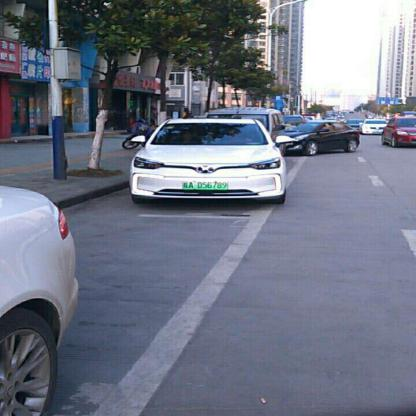lp: (182, 180, 227, 189)
